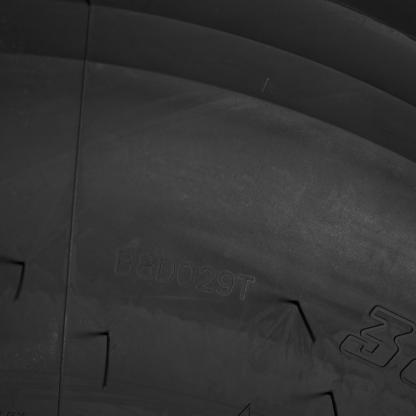ocr: (114, 246, 255, 302)
